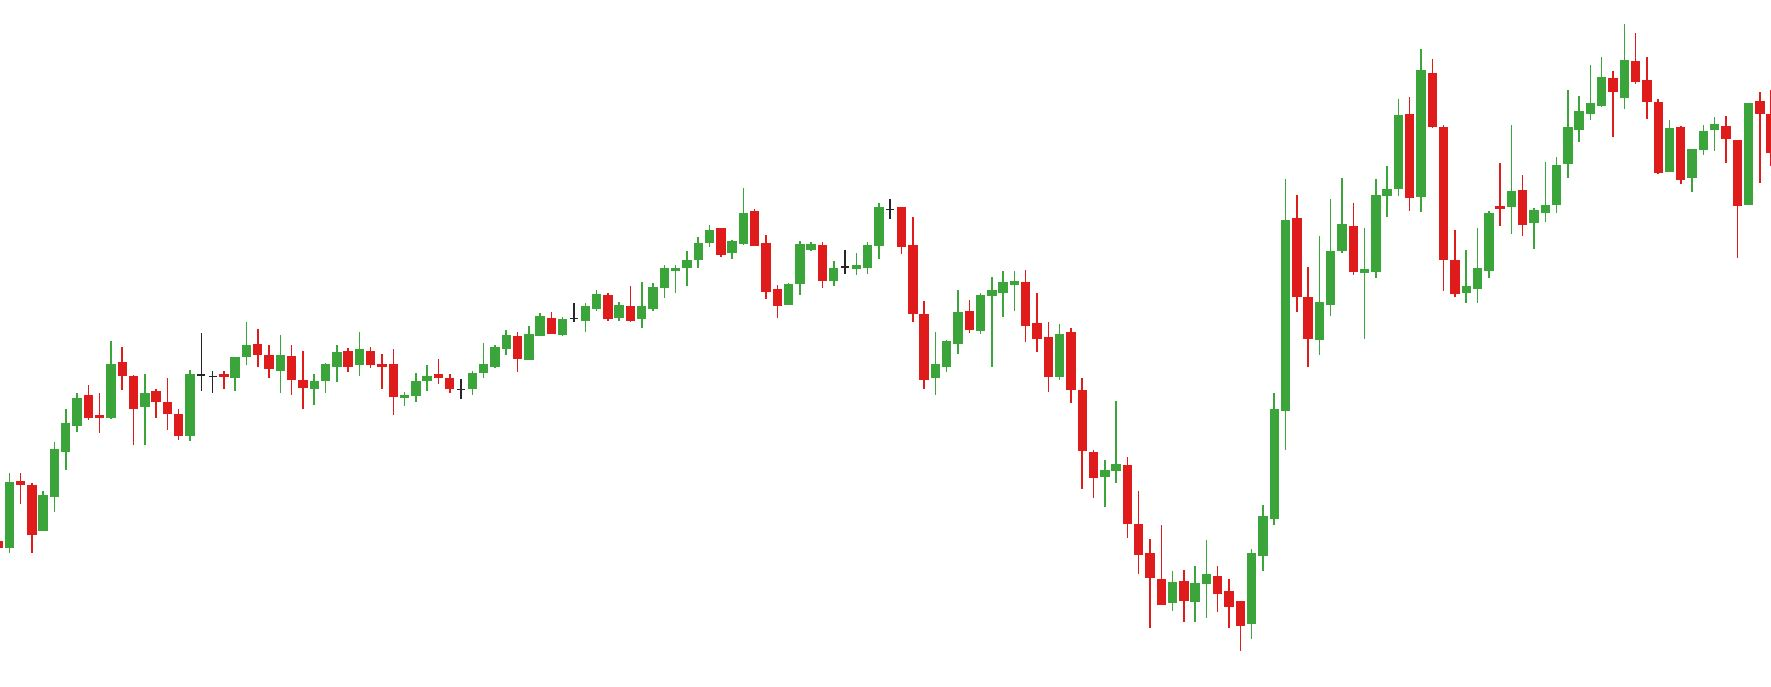sell: (789, 202, 906, 278)
